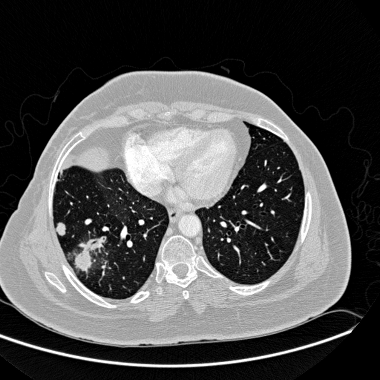nodule: (75, 250, 93, 268)
